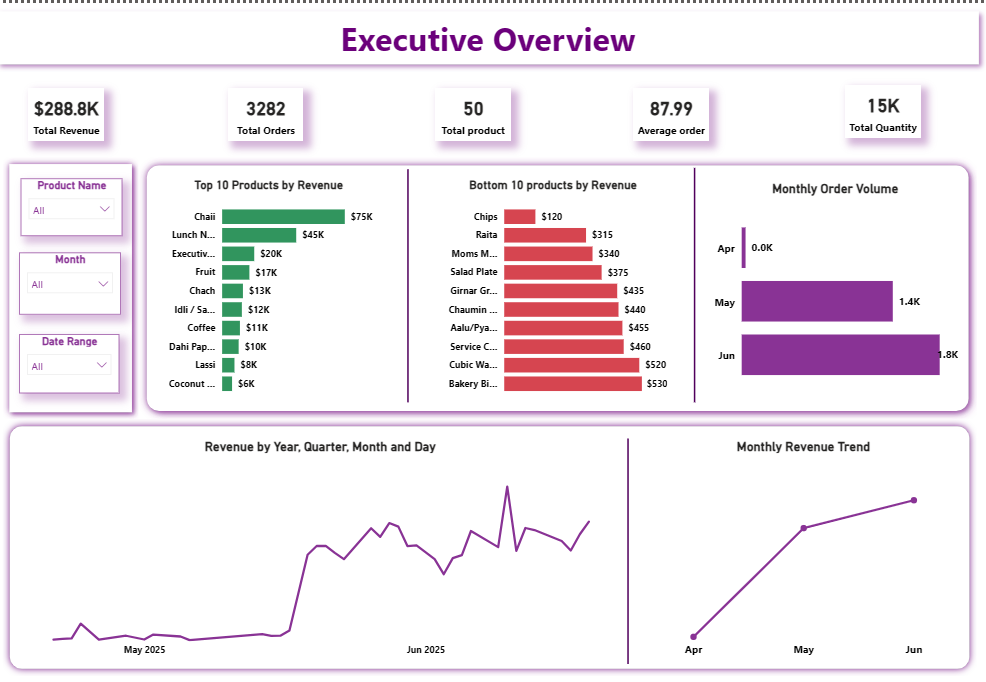

Layout of this report page (visuals, bound fields, positions):
{"tool":"powerbi","page":{"name":"Page 1","canvas":[1320,900],"ordinal":1},"visuals":[{"type":"shape","box":[0,0,1320,92],"z":0},{"type":"shape","box":[198,204,1108,346],"z":0,"group":"g4"},{"type":"shape","box":[18,550,1288,340],"z":500,"group":"g2"},{"type":"textbox","box":[380,12,560,68],"z":1000},{"type":"card","fields":{"Values":["Measures table.Total Revenue"]},"box":[52,111.1,100,70],"z":1000,"group":"g1"},{"type":"clusteredBarChart","title":"Monthly Order Volume","fields":{"Y":["Measures table.Total Orders"],"Category":["Orders Dimension.Month"]},"box":[952,236,334,292],"z":1000,"group":"g4"},{"type":"lineChart","title":"Monthly Revenue Trend","fields":{"Y":["Measures table.Total Revenue"],"Category":["Orders Dimension.Month"]},"box":[868,576,418,298],"z":1000,"group":"g2"},{"type":"group","id":"g1","title":"Group 1","box":[52,108,1180.9,73.1],"z":2000},{"type":"card","fields":{"Values":["Measures table.Total Orders"]},"box":[316.8,111.1,100,70],"z":2000,"group":"g1"},{"type":"clusteredBarChart","title":"Bottom 10 products by Revenue ","fields":{"Y":["Measures table.Total Revenue"],"Category":["Product Dimension.Name"]},"box":[590,232,312,296],"z":2000,"group":"g4"},{"type":"card","fields":{"Values":["Measures table.Total product"]},"box":[590.9,111.1,100,70],"z":3000,"group":"g1"},{"type":"clusteredBarChart","title":"Top 10 Products by Revenue","fields":{"Y":["Measures table.Total Revenue"],"Category":["Product Dimension.Name"]},"box":[220,232,300,296],"z":3000,"group":"g4"},{"type":"group","id":"g2","title":"Group 3","box":[18,550,1288,340],"z":3000},{"type":"card","fields":{"Values":["Measures table.Total Quantity"]},"box":[1132.9,108,100,70],"z":4000,"group":"g1"},{"type":"group","id":"g3","title":"Group 4","box":[18,204,180,346],"z":4000},{"type":"shape","box":[926,218,14,310],"z":4000,"group":"g4"},{"type":"card","fields":{"Values":["Measures table.Average order value"]},"box":[852.5,111.1,100,70],"z":5000,"group":"g1"},{"type":"group","id":"g4","title":"Group 2","box":[198,204,1108,346],"z":5000},{"type":"shape","box":[542,220,24,308],"z":5000,"group":"g4"},{"type":"lineChart","title":"Revenue by Year, Quarter, Month and Day","fields":{"Y":["Measures table.Total Revenue"],"Category":["Orders Dimension.Created_at.Variation.Date Hierarchy.Year","Orders Dimension.Created_at.Variation.Date Hierarchy.Quarter","Orders Dimension.Created_at.Variation.Date Hierarchy.Month","Orders Dimension.Created_at.Variation.Date Hierarchy.Day"]},"box":[52,576,772,298],"z":9000,"group":"g2"},{"type":"shape","box":[18,204,180,346],"z":10000,"group":"g3"},{"type":"slicer","title":"Product Name","fields":{"Values":["Product Dimension.Name"]},"box":[42,232,134,76],"z":11000,"group":"g3"},{"type":"slicer","title":"Month","fields":{"Values":["Orders Dimension.Month"]},"box":[40,330,134,82],"z":12000,"group":"g3"},{"type":"slicer","title":"Date Range","fields":{"Values":["Orders Dimension.Created_at"]},"box":[40,438,132,78],"z":13000,"group":"g3"},{"type":"shape","box":[838,576,14,298],"z":14003,"group":"g2"}]}

Visuals, with their boxes in screenshot pixels (x1, y1, x2, y2), scaled from the page's 1320x900 canvas onto the 986x682 screenshot:
shape: [x1=0, y1=0, x2=985, y2=70]
shape: [x1=148, y1=155, x2=976, y2=417]
shape: [x1=13, y1=417, x2=976, y2=674]
textbox: [x1=284, y1=9, x2=702, y2=61]
card - Measures table.Total Revenue: [x1=39, y1=84, x2=114, y2=137]
"Monthly Order Volume" clusteredBarChart: [x1=711, y1=179, x2=961, y2=400]
"Monthly Revenue Trend" lineChart: [x1=648, y1=436, x2=961, y2=662]
"Group 1" group: [x1=39, y1=82, x2=921, y2=137]
card - Measures table.Total Orders: [x1=237, y1=84, x2=311, y2=137]
"Bottom 10 products by Revenue " clusteredBarChart: [x1=441, y1=176, x2=674, y2=400]
card - Measures table.Total product: [x1=441, y1=84, x2=516, y2=137]
"Top 10 Products by Revenue" clusteredBarChart: [x1=164, y1=176, x2=388, y2=400]
"Group 3" group: [x1=13, y1=417, x2=976, y2=674]
card - Measures table.Total Quantity: [x1=846, y1=82, x2=921, y2=135]
"Group 4" group: [x1=13, y1=155, x2=148, y2=417]
shape: [x1=692, y1=165, x2=702, y2=400]
card - Measures table.Average order value: [x1=637, y1=84, x2=711, y2=137]
"Group 2" group: [x1=148, y1=155, x2=976, y2=417]
shape: [x1=405, y1=167, x2=423, y2=400]
"Revenue by Year, Quarter, Month and Day" lineChart: [x1=39, y1=436, x2=616, y2=662]
shape: [x1=13, y1=155, x2=148, y2=417]
"Product Name" slicer: [x1=31, y1=176, x2=131, y2=233]
"Month" slicer: [x1=30, y1=250, x2=130, y2=312]
"Date Range" slicer: [x1=30, y1=332, x2=128, y2=391]
shape: [x1=626, y1=436, x2=636, y2=662]
